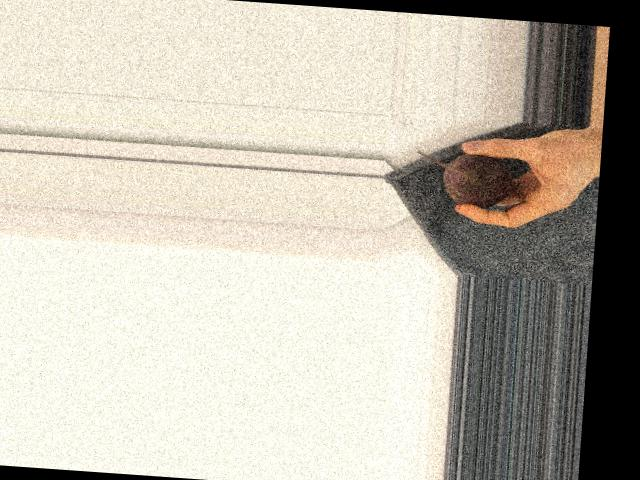beet: (413, 149, 513, 209)
